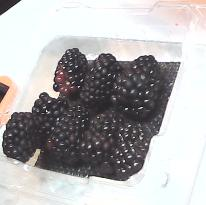berry: (111, 55, 159, 119), (43, 107, 92, 165), (80, 112, 125, 172), (77, 54, 124, 108), (110, 123, 147, 183), (32, 93, 72, 148), (53, 47, 88, 98), (2, 112, 38, 161)
